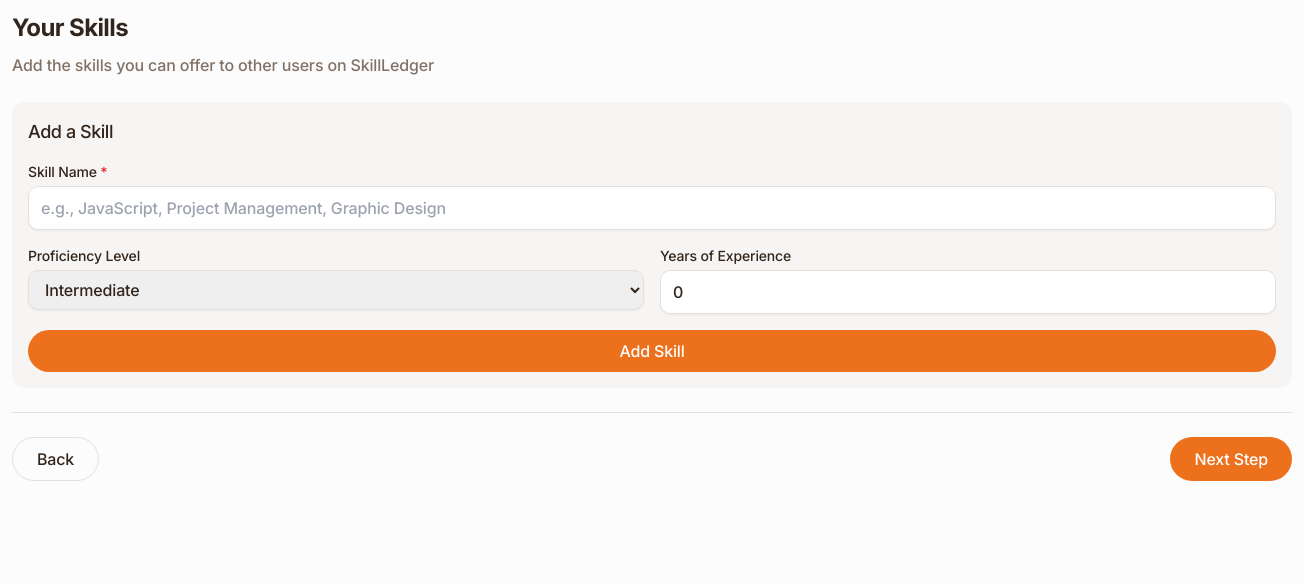
Scenario: Step2SkillSelection › shows error when trying to proceed without any skills
Click the button "Next Step" at (1231, 459), box [1170,437,1292,481]
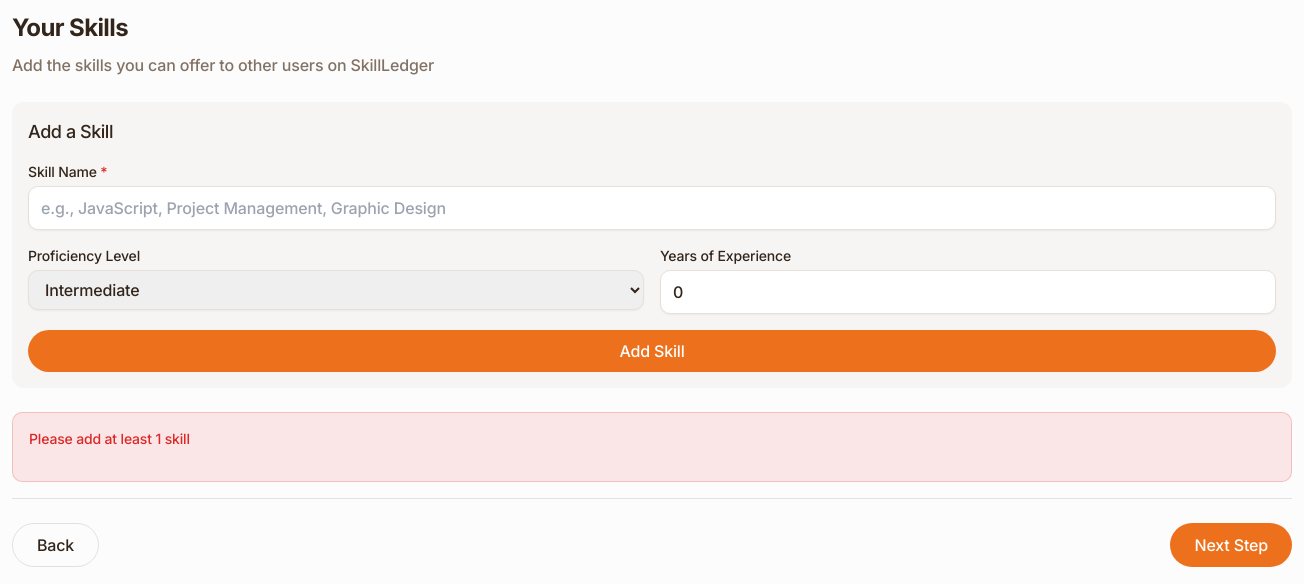
Result: the text "Please add at least 1 skill" is shown at [29,430,190,447]
